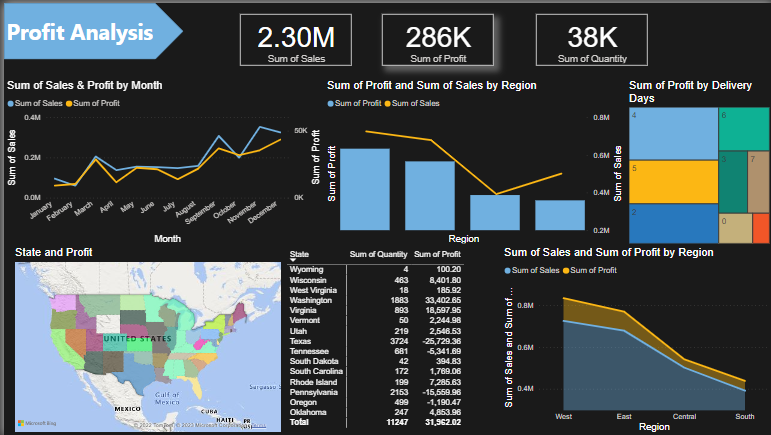

The page's visual inventory and layout, read from the dashboard file:
{"tool":"powerbi","page":{"name":"Page 2","canvas":[1280,720],"ordinal":1},"visuals":[{"type":"filledMap","fields":{"Category":["superstore.State"],"Series":["superstore.Profit"]},"box":[12.8,405.4,453.5,314.6],"z":0},{"type":"lineChart","title":"Sum of Sales & Profit by Month","fields":{"Category":["superstore.Order Date.Variation.Date Hierarchy.Month"],"Y":["Sum(superstore.Sales)"],"Y2":["Sum(superstore.Profit)"]},"box":[0,126.1,532.9,279.2],"z":1000},{"type":"stackedAreaChart","fields":{"Y":["Sum(superstore.Sales)","Sum(superstore.Profit)"],"Category":["superstore.Region"]},"box":[827.7,405.4,452.1,314.6],"z":2000},{"type":"treemap","fields":{"Group":["superstore.Delivery Days"],"Values":["Sum(superstore.Profit)"]},"box":[1036.1,126.1,243.8,279.2],"z":3000},{"type":"pivotTable","fields":{"Rows":["superstore.State"],"Values":["Sum(superstore.Quantity)","Sum(superstore.Profit)"]},"box":[466.3,405.4,361.4,314.6],"z":4000},{"type":"lineStackedColumnComboChart","fields":{"Y":["Sum(superstore.Profit)"],"Y2":["Sum(superstore.Sales)"],"Category":["superstore.Region"]},"box":[532.9,126.1,503.1,279.2],"z":5000},{"type":"shape","box":[0,0,299.1,93.5],"z":6000},{"type":"card","fields":{"Values":["Sum(superstore.Sales)"]},"box":[394,18.4,185.7,86.5],"z":7000},{"type":"card","fields":{"Values":["Sum(superstore.Profit)"]},"box":[629.3,18.4,185.7,86.5],"z":8000},{"type":"card","fields":{"Values":["Sum(superstore.Quantity)"]},"box":[887.2,18.4,185.7,86.5],"z":9000}]}

Visuals, with their boxes in screenshot pixels (x1, y1, x2, y2), scaled from the page's 1280x720 canvas onto the 771x435 screenshot:
filledMap - superstore.State x superstore.Profit: [8, 245, 281, 434]
"Sum of Sales & Profit by Month" lineChart: [0, 76, 321, 245]
stackedAreaChart - Sum(superstore.Sales) x Sum(superstore.Profit): [499, 245, 770, 434]
treemap - superstore.Delivery Days x Sum(superstore.Profit): [624, 76, 770, 245]
pivotTable - superstore.State x Sum(superstore.Quantity): [281, 245, 499, 434]
lineStackedColumnComboChart - Sum(superstore.Profit) x Sum(superstore.Sales): [321, 76, 624, 245]
shape: [0, 0, 180, 56]
card - Sum(superstore.Sales): [237, 11, 349, 63]
card - Sum(superstore.Profit): [379, 11, 491, 63]
card - Sum(superstore.Quantity): [534, 11, 646, 63]
